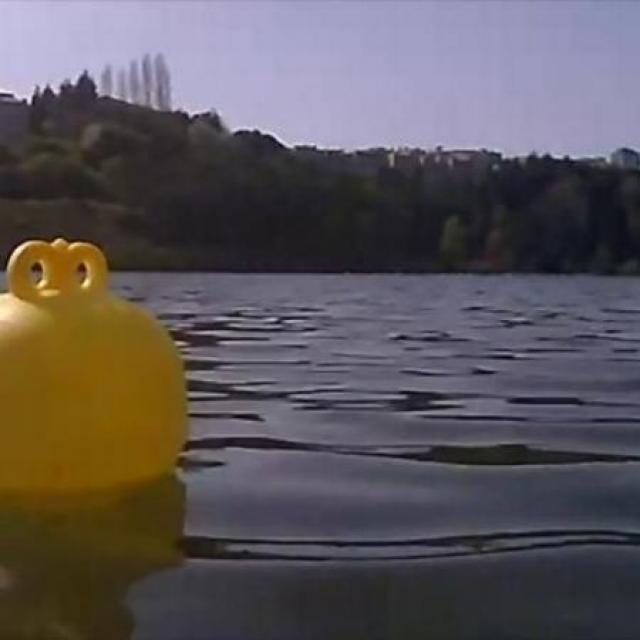buoy: (5, 240, 186, 494)
